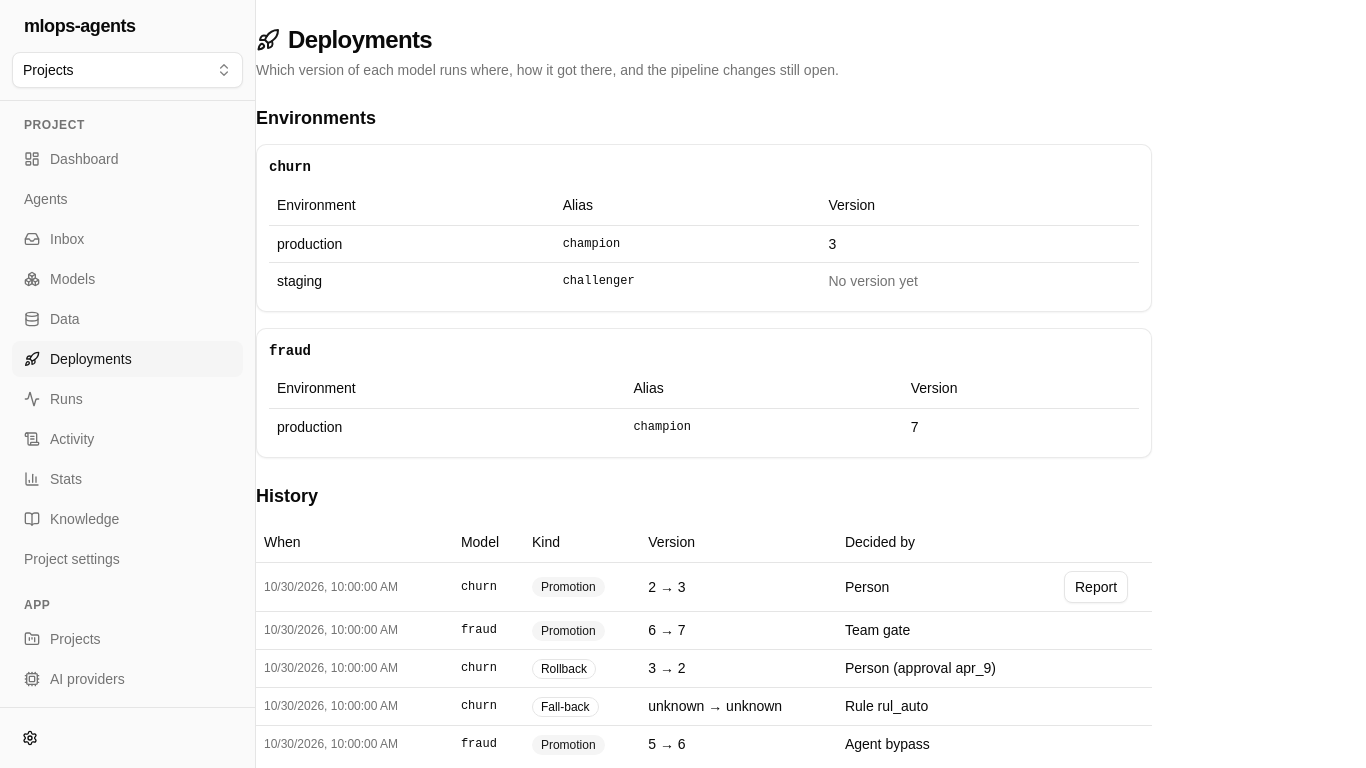
Test case: DeploymentsPage › offers a Report button only where the decision has a report, and fetches it lazily
Click the button "Report". click: (1096, 586)
box: [1064,570,1128,602]
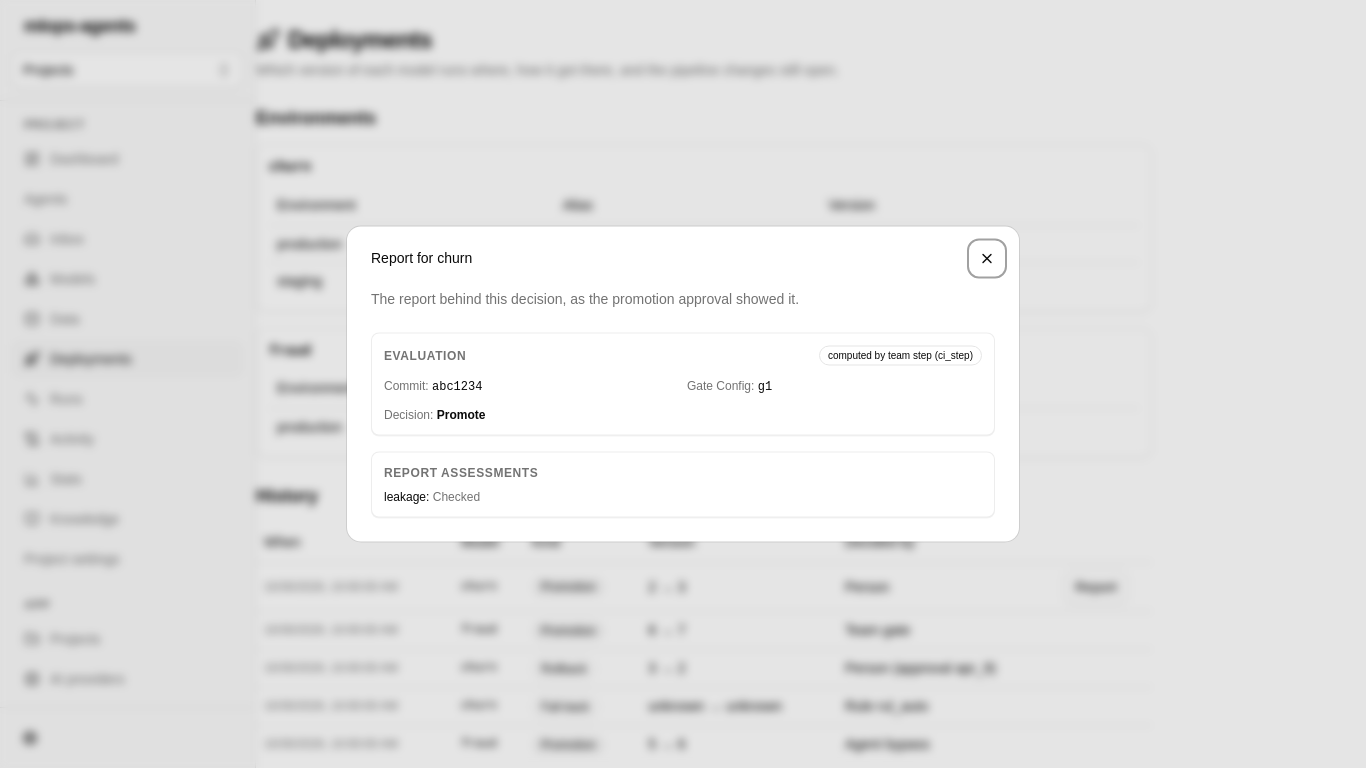
Check: the text "computed by team step (ci_step)" is shown, box [819,346,982,366]
Check: the text "abc1234" is shown, box [432,380,482,394]
Check: the text "Checked" is shown, box [433,490,480,504]
